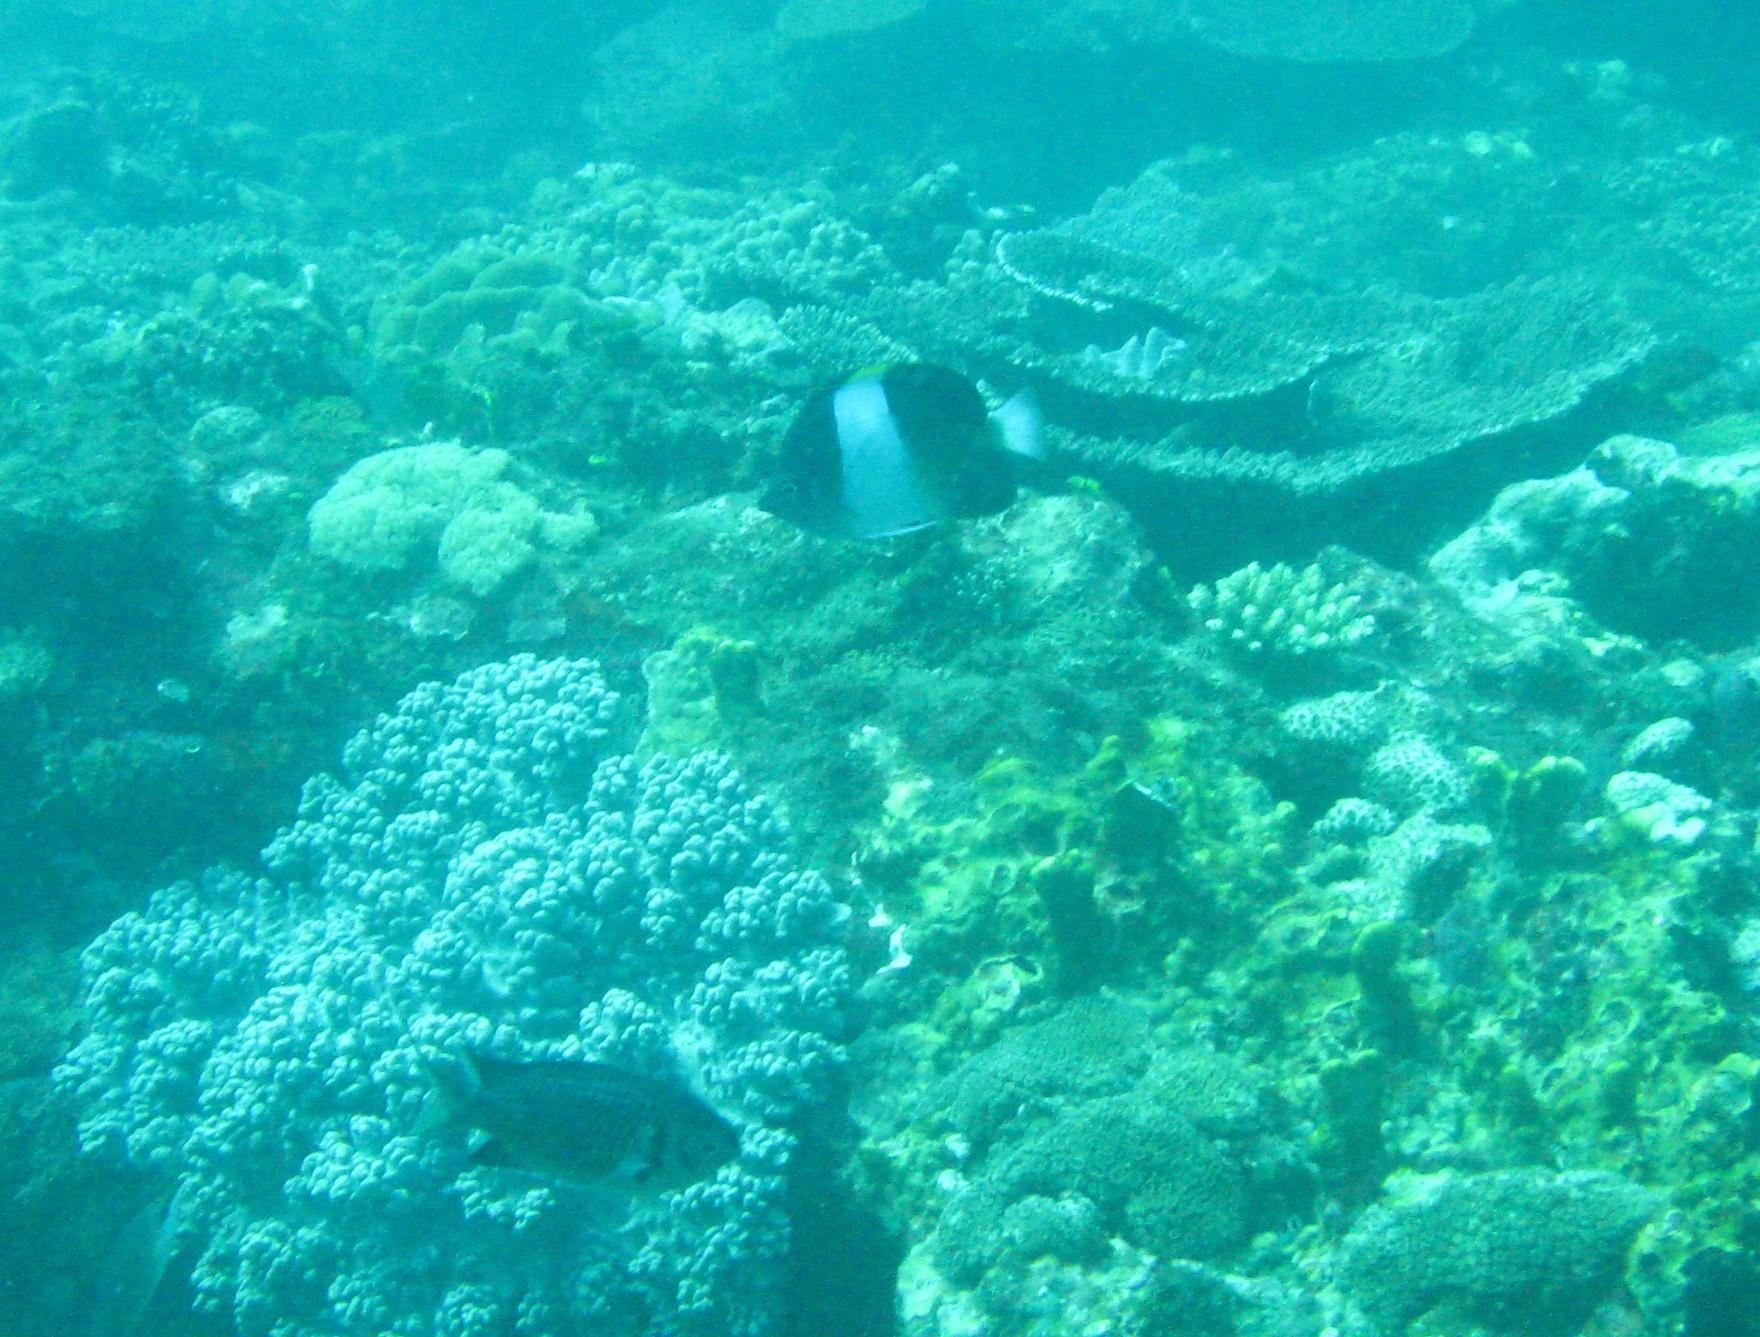Fish: (750, 355, 1069, 556)
